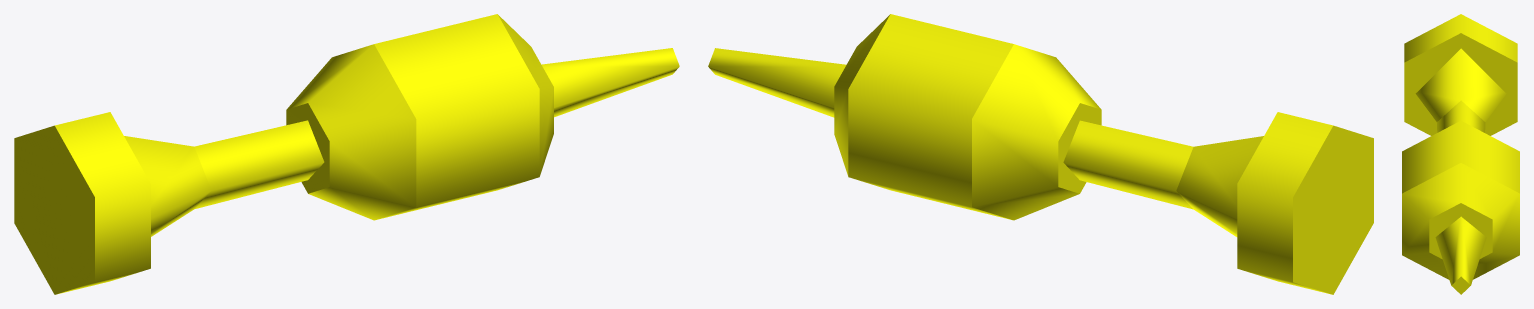
The model's file is projectile_piat.glb.
3 views of the same model, side by side, from view 1: azimuth 30°, elevation 25°; view 2: azimuth 150°, elevation 25°; view 3: azimuth 270°, elevation 25° (orthographic). The views are drawn at different scales.
Parts seen in each view (by area): view 1: projectile_piat; view 2: projectile_piat; view 3: projectile_piat.
Part boxes in pixels (x1=…): projectile_piat: x1=14, y1=14, x2=679, y2=294; projectile_piat: x1=708, y1=14, x2=1373, y2=294; projectile_piat: x1=1402, y1=14, x2=1519, y2=294.
Bounding box in the file's own units: 0.8464 × 0.2308 × 0.1999.
Materials: 1 (1 with a texture image).
